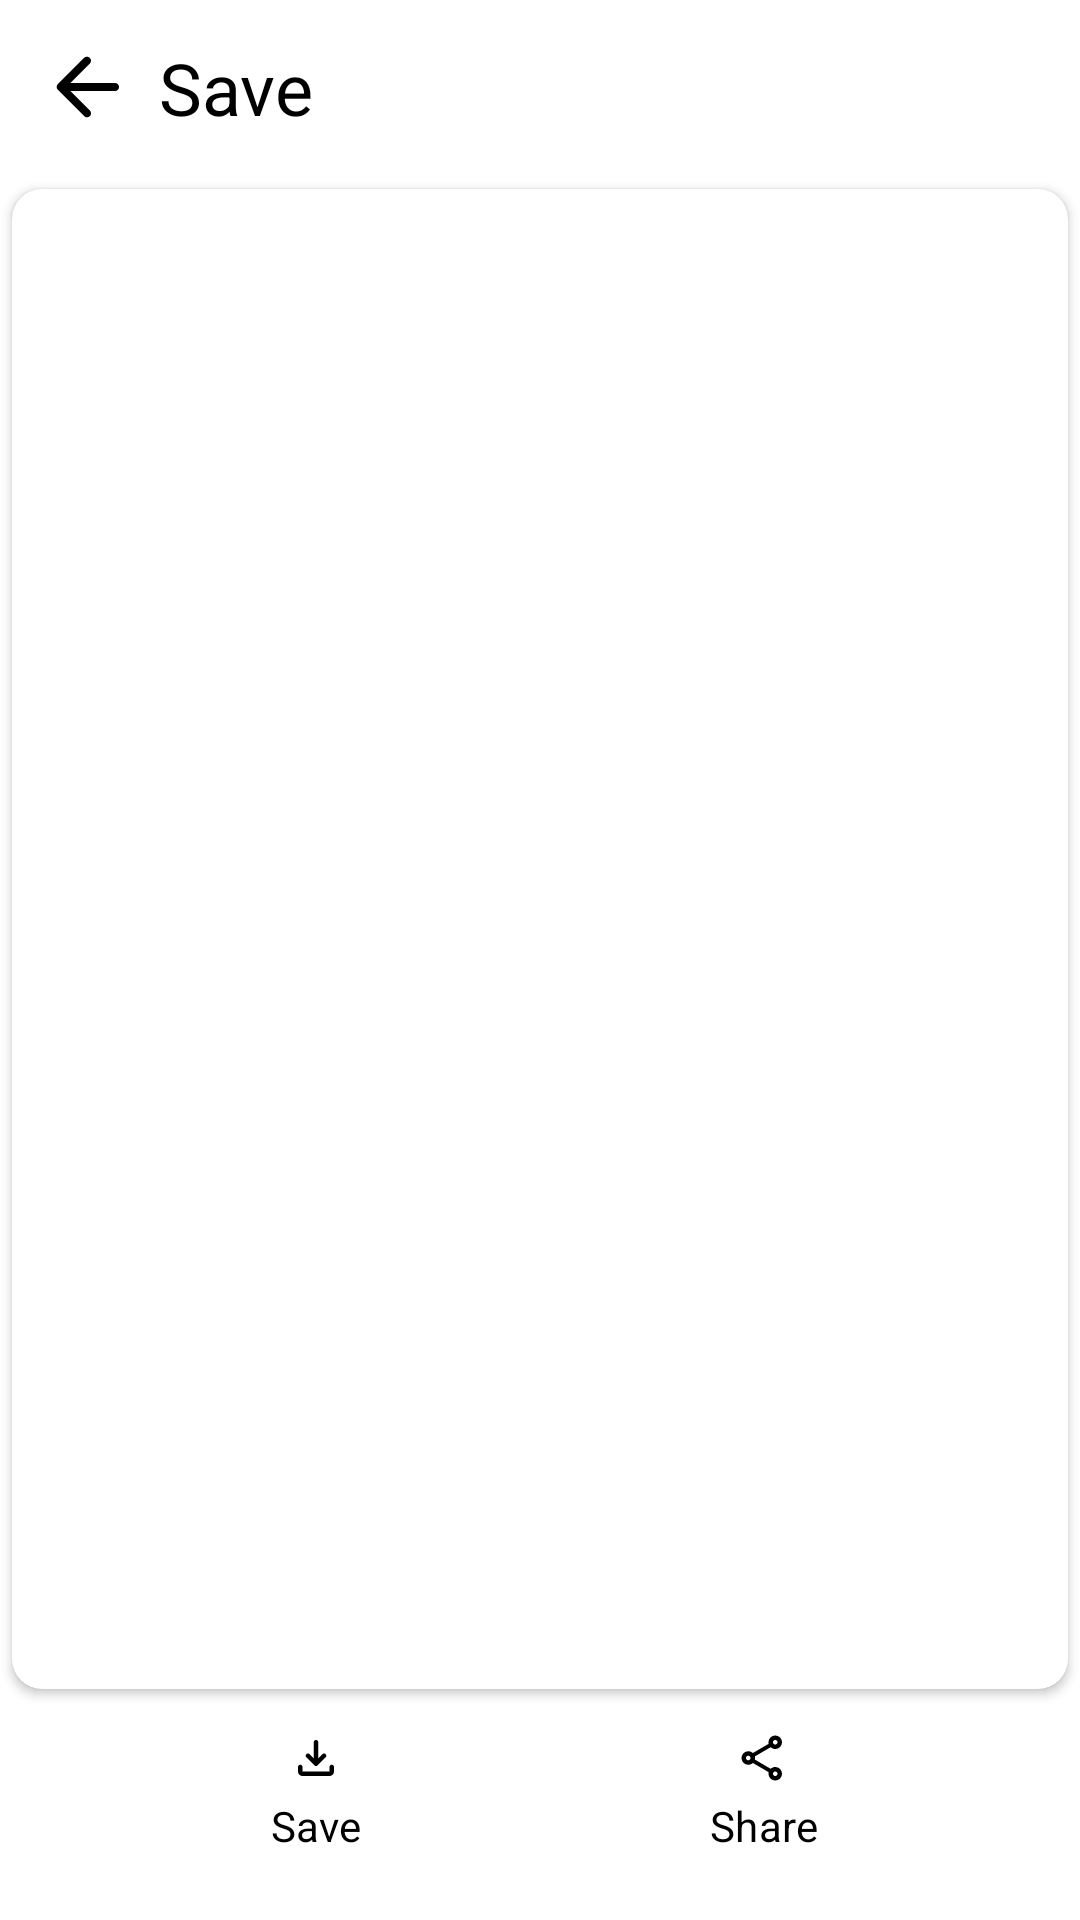

Screen size 1080 × 1920. Icon name, then its center in pixels as (x=x, y=y):
arrow back: (x=87, y=87)
